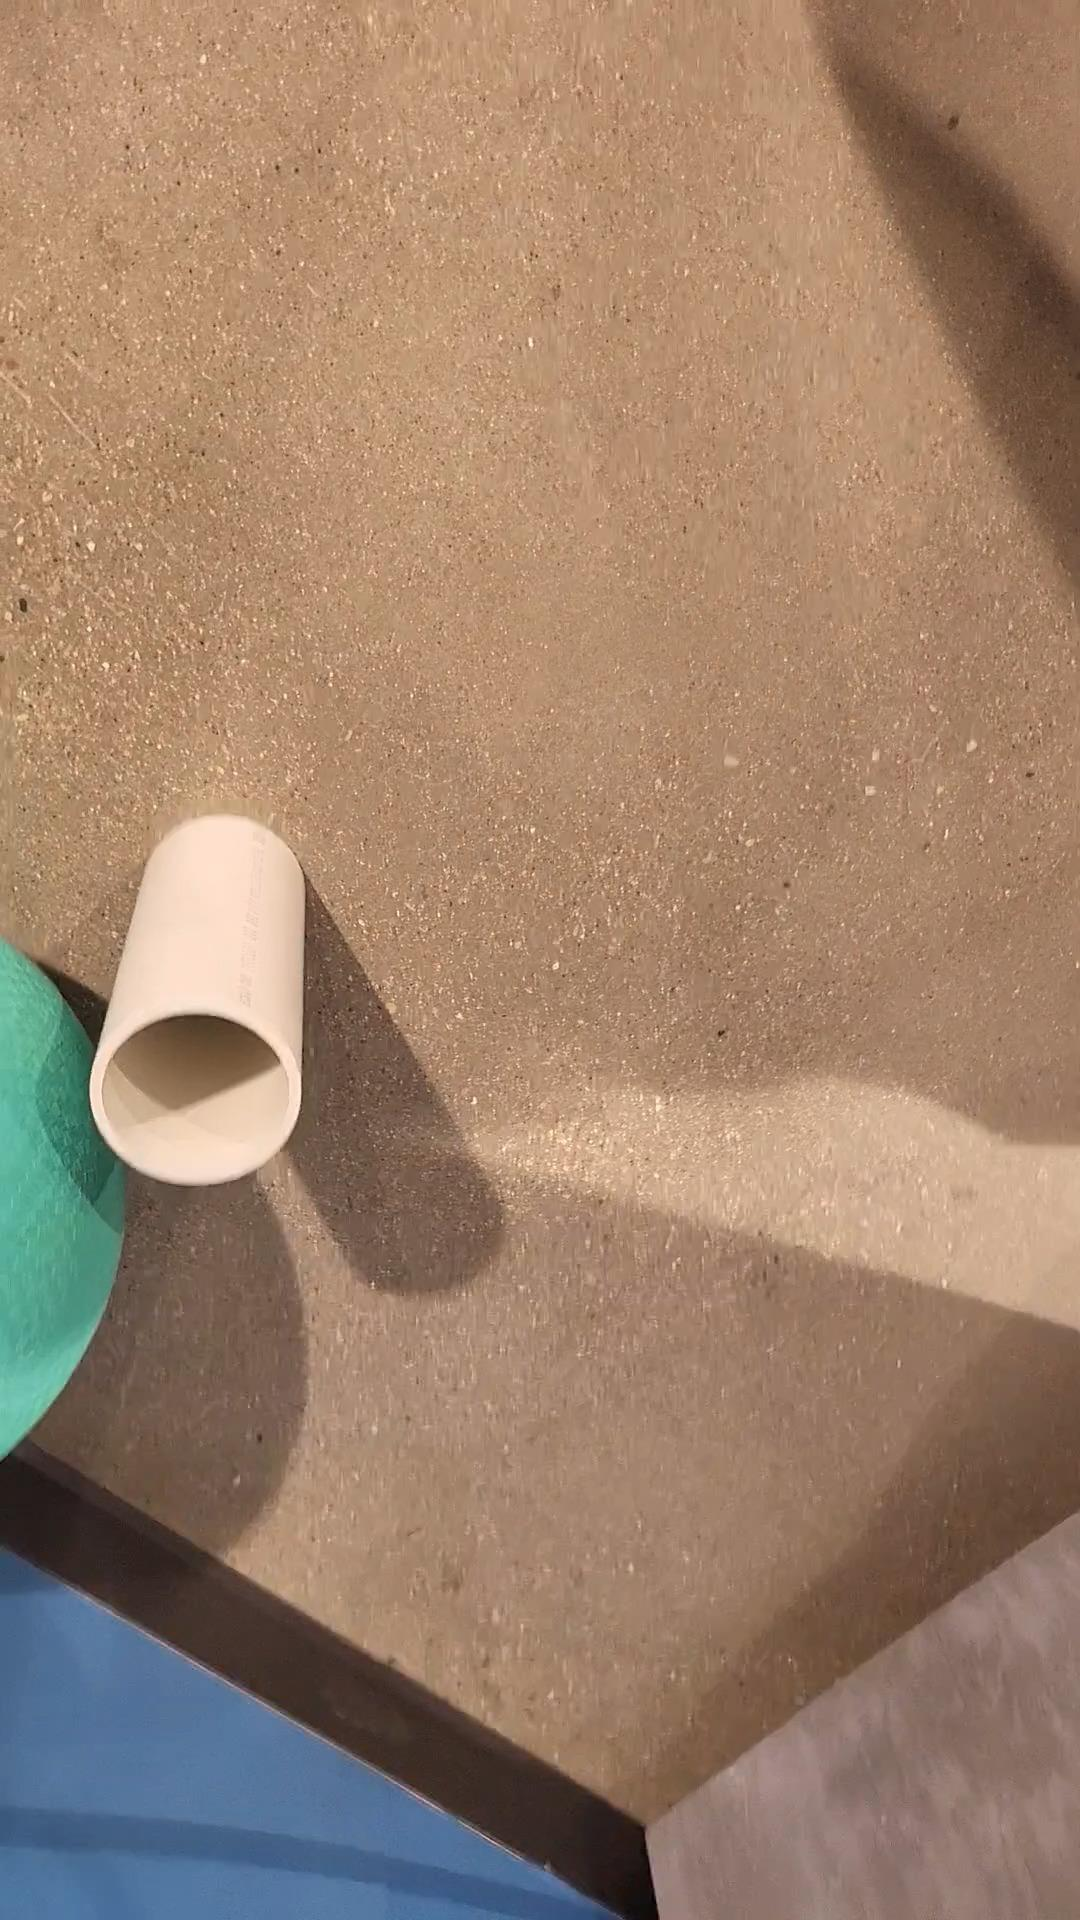algae: (0, 930, 117, 1473)
coral: (84, 820, 302, 1185)
